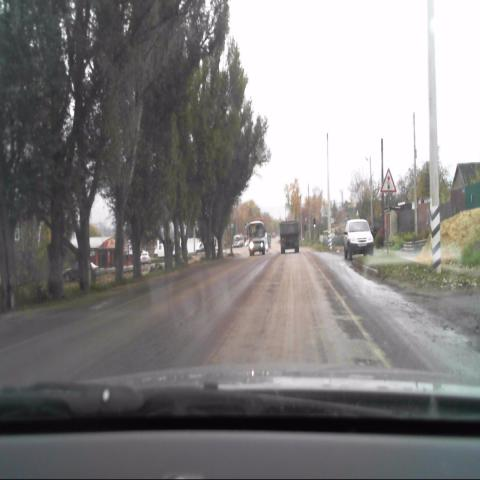1_8: (381, 166, 398, 194)
